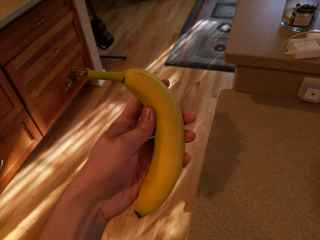banana: (69, 65, 187, 221)
